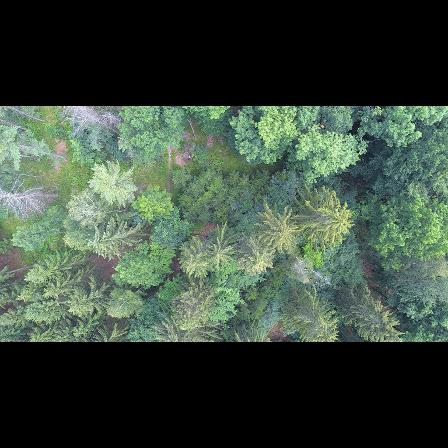Dead: (0, 177, 67, 222), (56, 106, 128, 145), (288, 254, 335, 288)
